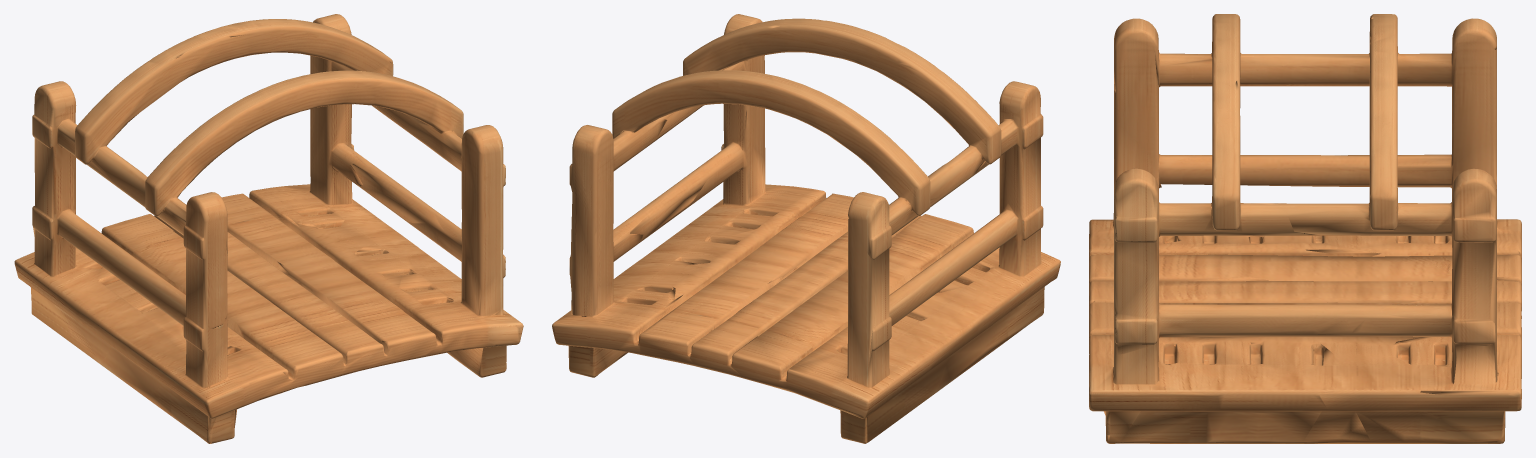
File: wooden_bridge.glb
3 views of the same model, side by side, from view 1: azimuth 30°, elevation 25°; view 2: azimuth 150°, elevation 25°; view 3: azimuth 270°, elevation 25° (orthographic). The views are drawn at different scales.
Size of the model in its own units: 1.81 by 1.58 by 1.91.
Materials: 1 (1 with a texture image).
